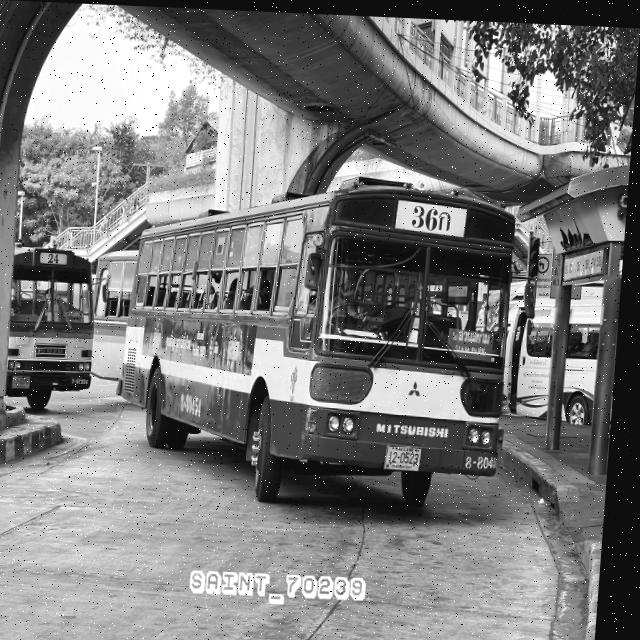BMTA-bus: (118, 169, 524, 510), (8, 247, 105, 412)
Bus-Line-Number: (408, 198, 460, 234), (51, 253, 65, 264)
Destination-Sign-Normal: (451, 322, 500, 360), (64, 309, 91, 322)
